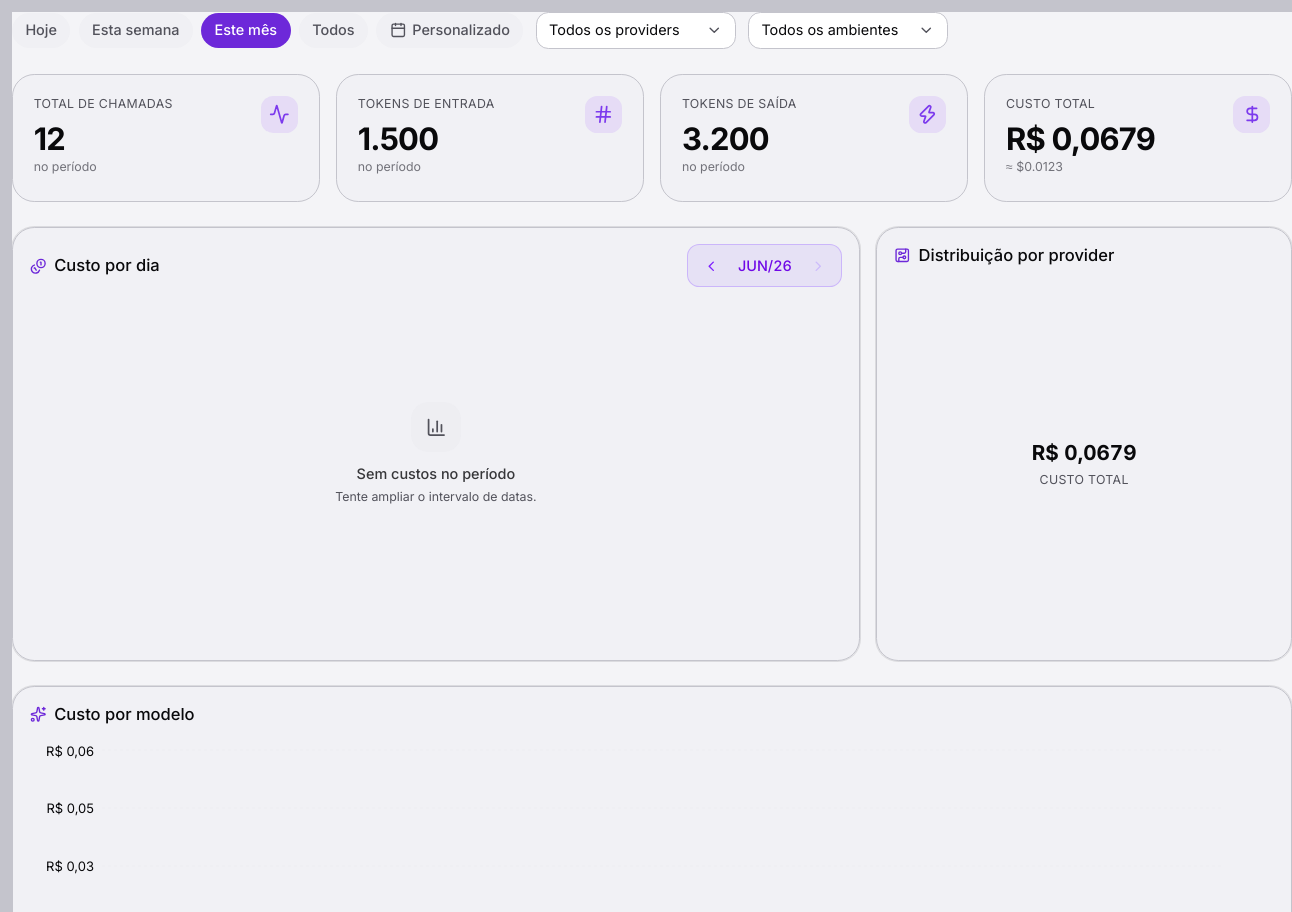
Scenario: ConsumoContent — refactor T6d v0.16.0 › T-E2: Card title 'Custo por hora' quando pill='hoje' e byHour disponível
Default pill é "mes_atual" → mostra "Custo por dia". Troca pra "Hoje".
Click the tab "Hoje".
click(41, 31)  # box [12,13,70,48]
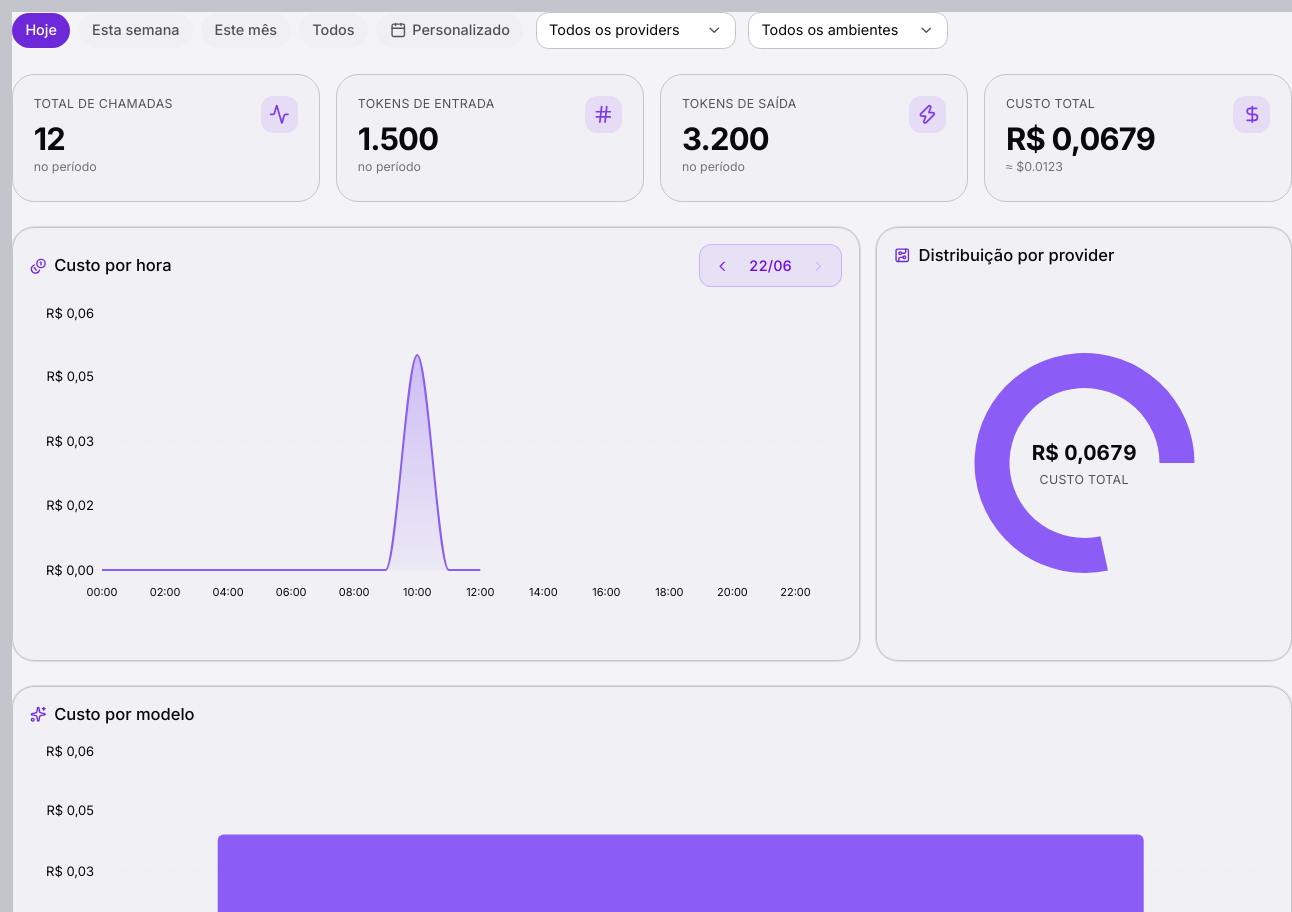
Check: the text "Custo por hora" is shown, box [30,254,172,277]
Check: the text "Custo por dia" is gone
